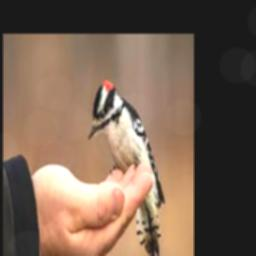Woodpecker: (88, 78, 165, 256)
